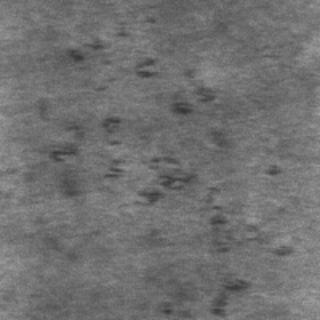rolled pit: (54, 120, 248, 314), (62, 27, 210, 113)
